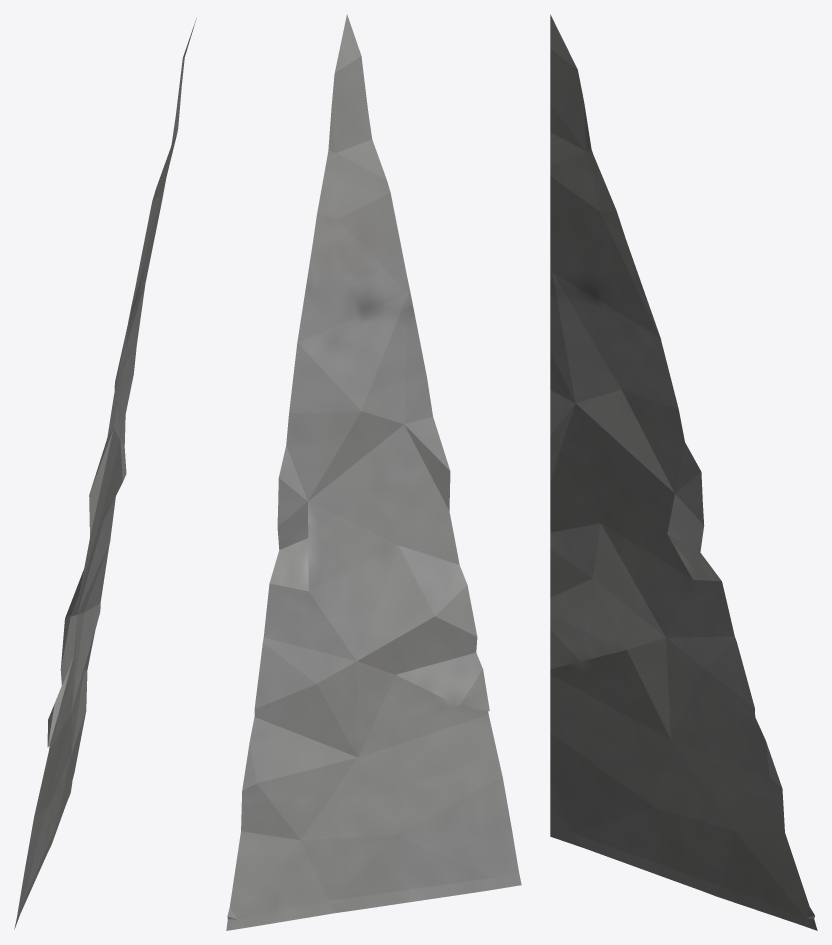
3 views of the same model, side by side, from view 1: azimuth 30°, elevation 25°; view 2: azimuth 150°, elevation 25°; view 3: azimuth 270°, elevation 25° (orthographic). The views are drawn at different scales.
Bounding box in the file's own units: 0.0766 × 0.3473 × 0.0918.
Materials: 1 (1 with a texture image).
